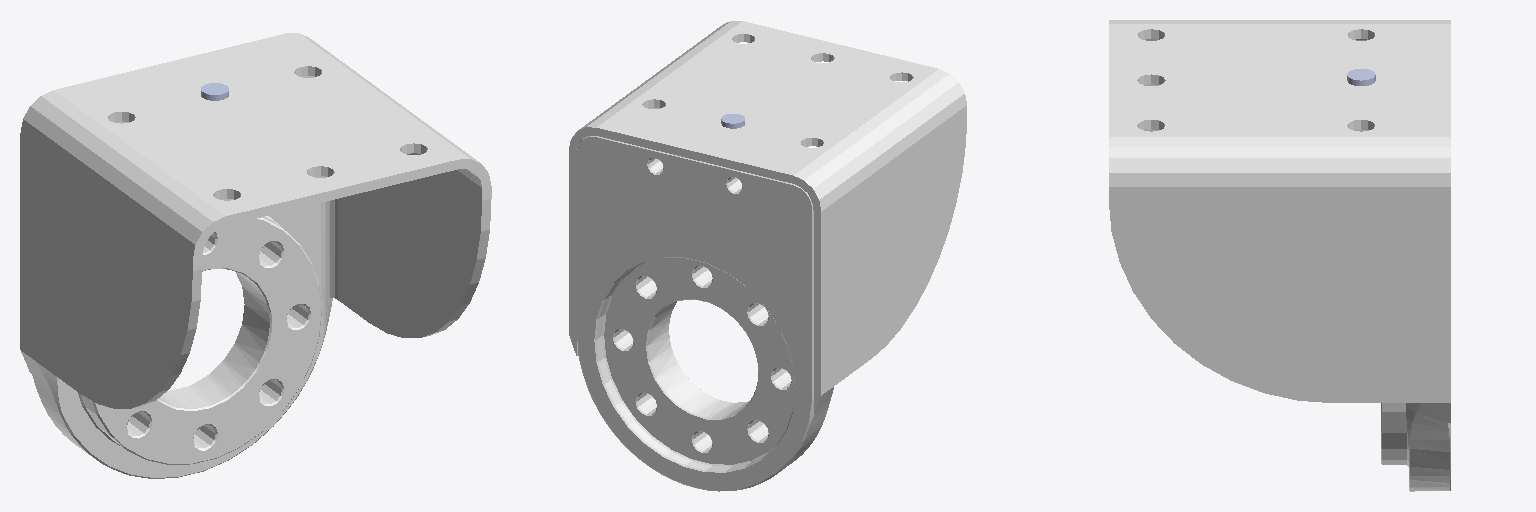
robot.urdf — bracket:
<?xml version="1.0" encoding="utf-8"?>
<!-- This URDF was automatically created by SolidWorks to URDF Exporter! Originally created by [author] ([email redacted]) 
     Commit Version: 1.6.0-1-g15f4949  Build Version: 1.6.7594.29634
     For more information, please see http://wiki.ros.org/sw_urdf_exporter -->
<robot
  name="bracket">
  <link
    name="bracket_base_link">
    <inertial>
      <origin
        xyz="6.517E-09 -0.014367 0.027764"
        rpy="0 0 0" />
      <mass
        value="0.097429" />
      <inertia
        ixx="0.00011904"
        ixy="-3.2786E-12"
        ixz="-1.6419E-11"
        iyy="0.000148"
        iyz="1.9632E-05"
        izz="0.00010905" />
    </inertial>
    <visual>
      <origin
        xyz="0 0 0"
        rpy="0 0 0" />
      <geometry>
        <mesh
          filename="package://bracket/meshes/bracket_base_link.STL" />
      </geometry>
      <material
        name="">
        <color
          rgba="0.96078 0.96078 0.96471 1" />
      </material>
    </visual>
    <collision>
      <origin
        xyz="0 0 0"
        rpy="0 0 0" />
      <geometry>
        <mesh
          filename="package://bracket/meshes/bracket_base_link.STL" />
      </geometry>
    </collision>
  </link>
  <link
    name="camera_bracket_link">
    <inertial>
      <origin
        xyz="6.9389E-18 -0.0005 -2.7756E-17"
        rpy="0 0 0" />
      <mass
        value="0.00013685" />
      <inertia
        ixx="5.5503E-10"
        ixy="-5.1007E-42"
        ixz="-2.3336E-57"
        iyy="7.4514E-10"
        iyz="1.7454E-42"
        izz="5.5503E-10" />
    </inertial>
    <visual>
      <origin
        xyz="0 0 0"
        rpy="0 0 0" />
      <geometry>
        <mesh
          filename="package://bracket/meshes/camera_bracket_link.STL" />
      </geometry>
      <material
        name="">
        <color
          rgba="0.79216 0.81961 0.93333 1" />
      </material>
    </visual>
    <collision>
      <origin
        xyz="0 0 0"
        rpy="0 0 0" />
      <geometry>
        <mesh
          filename="package://bracket/meshes/camera_bracket_link.STL" />
      </geometry>
    </collision>
  </link>
  <joint
    name="camera_joint"
    type="fixed">
    <origin
      xyz="0 -0.017 0.0645"
      rpy="1.5708 0 0" />
    <parent
      link="bracket_base_link" />
    <child
      link="camera_bracket_link" />
    <axis
      xyz="0 1 0" />
  </joint>
</robot>

--- Facts derived from the render (not from the file) ---
3 views of the same robot in one strip: view 1: azimuth 30°, elevation 25°; view 2: azimuth 150°, elevation 25°; view 3: azimuth 270°, elevation 25° (orthographic).
Model bracket with 2 links and 1 joints (1 fixed), rooted at bracket_base_link, posed all joints at 0.
Visible links, largest first — view 1: bracket_base_link; view 2: bracket_base_link; view 3: bracket_base_link.
Link boxes in pixels (x1,y1,x2,y2): bracket_base_link: [20, 33, 491, 478]; bracket_base_link: [569, 21, 966, 491]; bracket_base_link: [1109, 20, 1450, 491].
Bounding box of the posed robot: 0.08 × 0.08 × 0.1035 m (x, y, z).
2 mesh visuals loaded from 2 distinct referenced files (2 binary STL).
